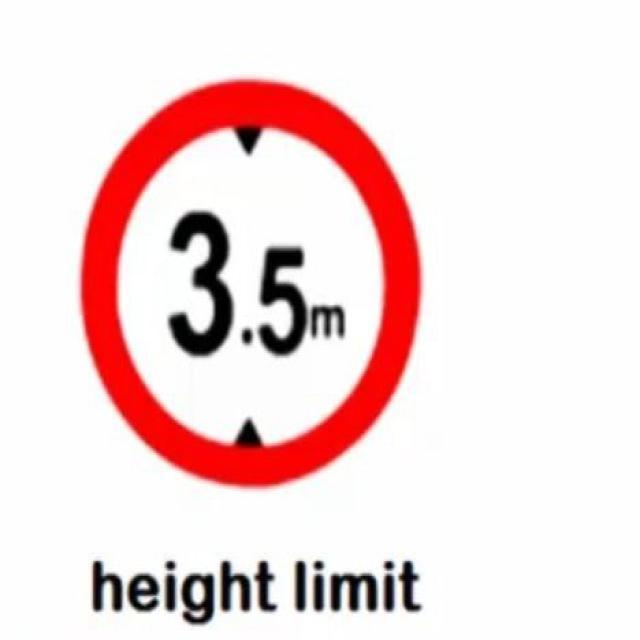height limit: (75, 75, 427, 494)
